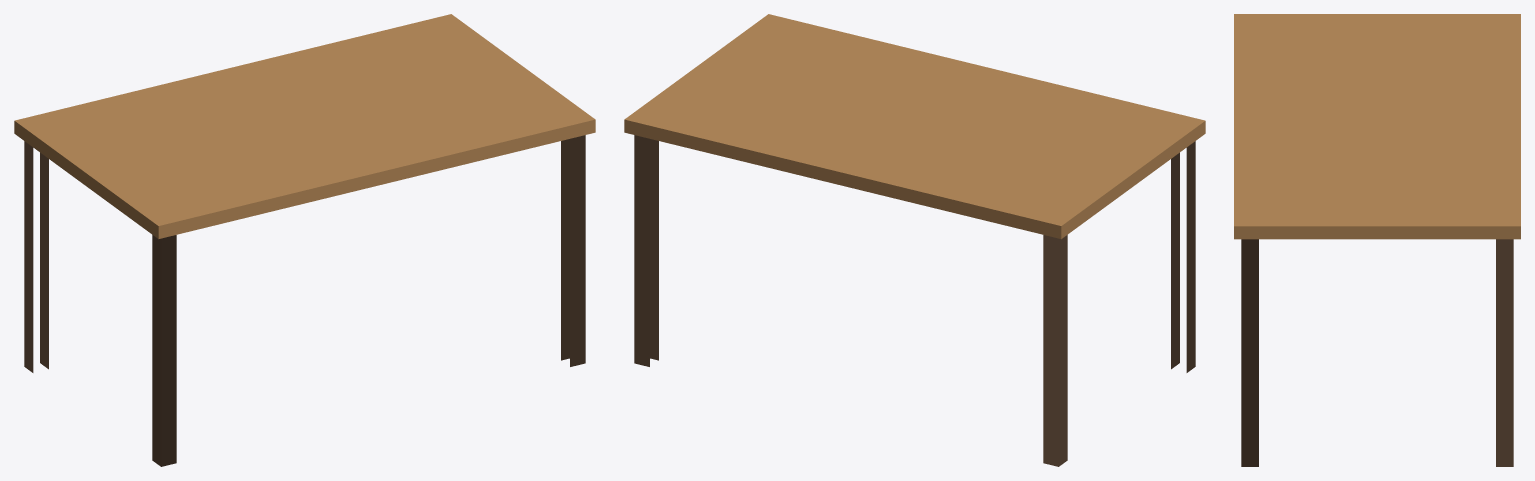
File: table.glb
3 views of the same model, side by side, from view 1: azimuth 30°, elevation 25°; view 2: azimuth 150°, elevation 25°; view 3: azimuth 270°, elevation 25° (orthographic).
Size of the model in its own units: 1.4 by 0.75 by 0.8.
